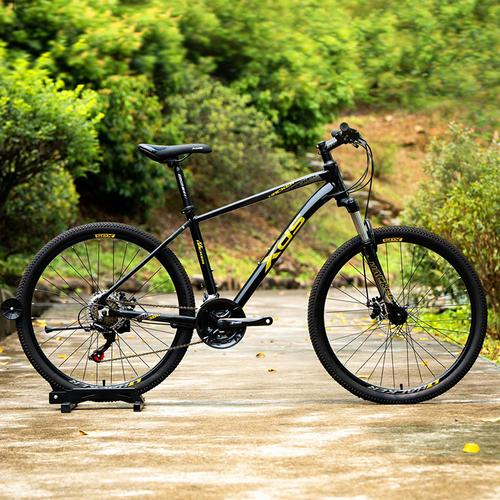单车: (14, 120, 492, 415)
